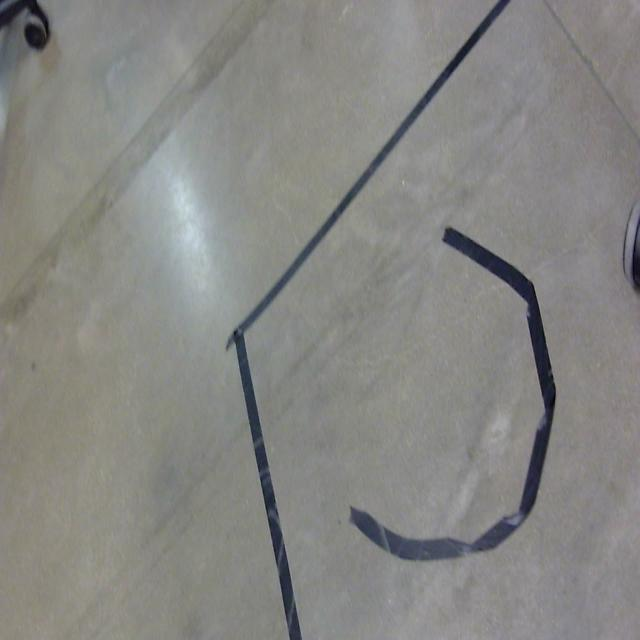tape: (214, 0, 544, 640), (332, 187, 598, 594)
